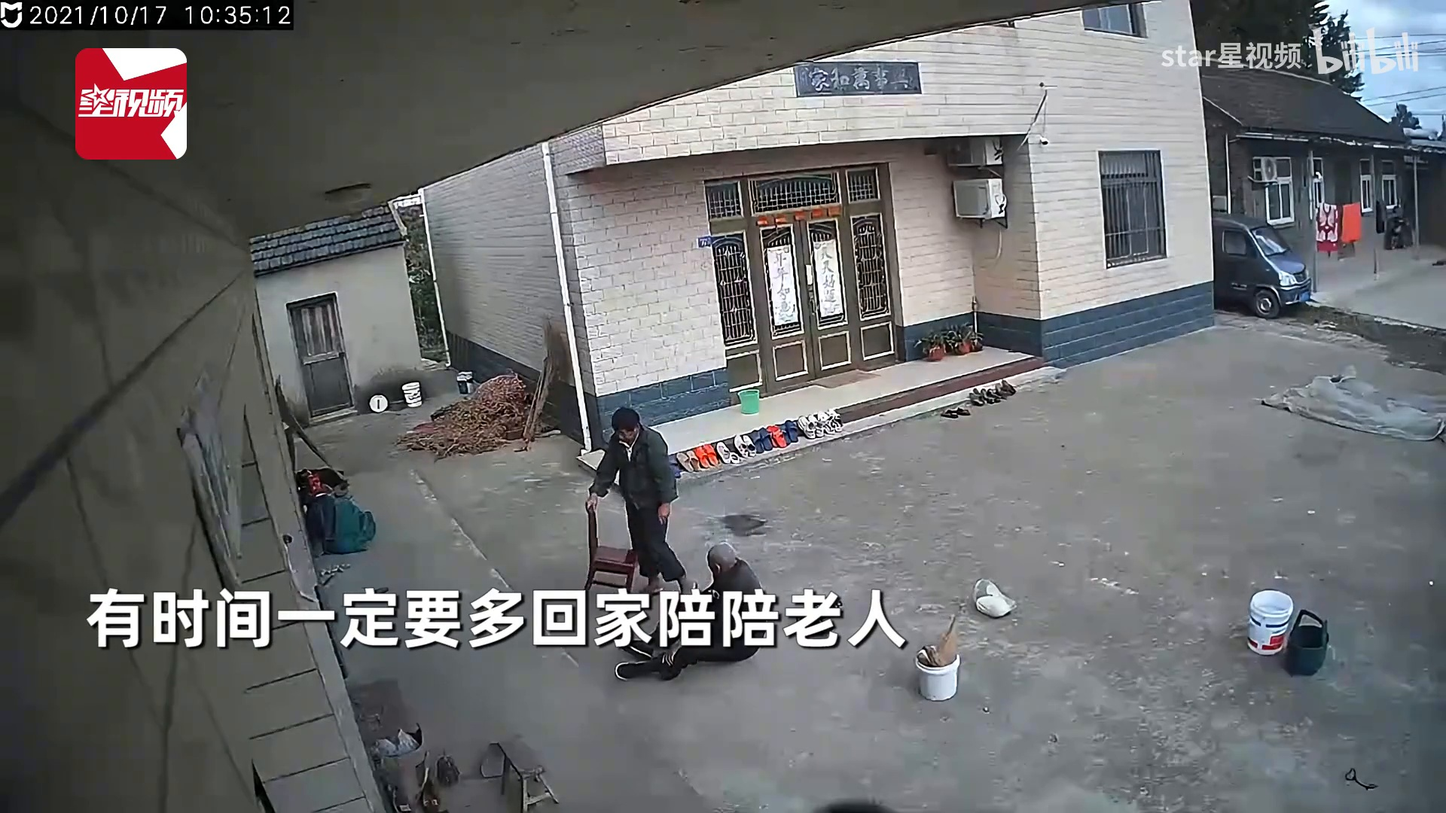half_up: (611, 546, 766, 681)
stand: (584, 406, 698, 594)
